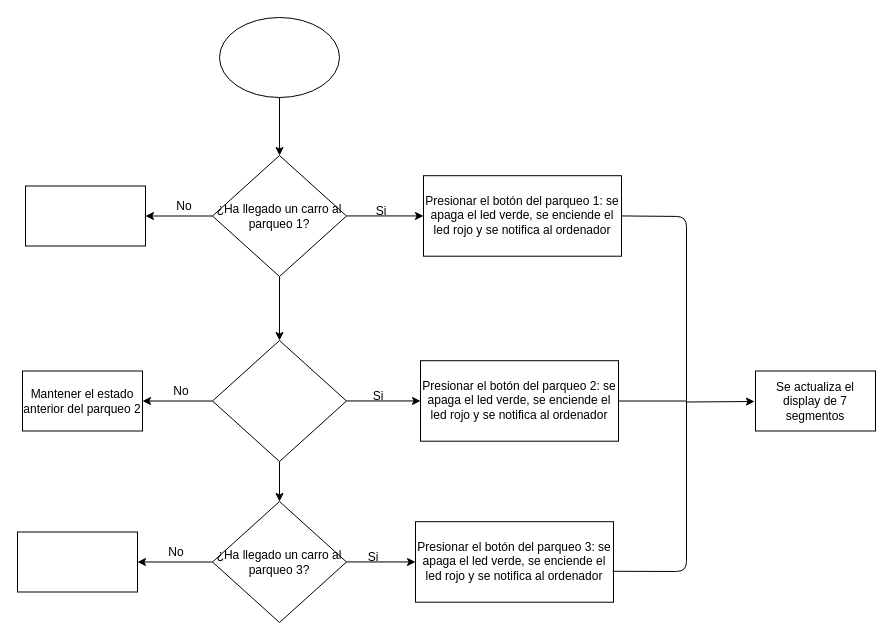
Image size: 893x640. Some labels were removed from this diagram. Each missing label, with the box of its shape:
Inicio: (218, 16, 340, 98)
Mantener el estado anterior del parqueo 1: (24, 185, 146, 246)
Mantener el estado anterior del parqueo 3: (16, 531, 138, 592)
¿Ha llegado un carro al parqueo 2?: (212, 340, 346, 462)
